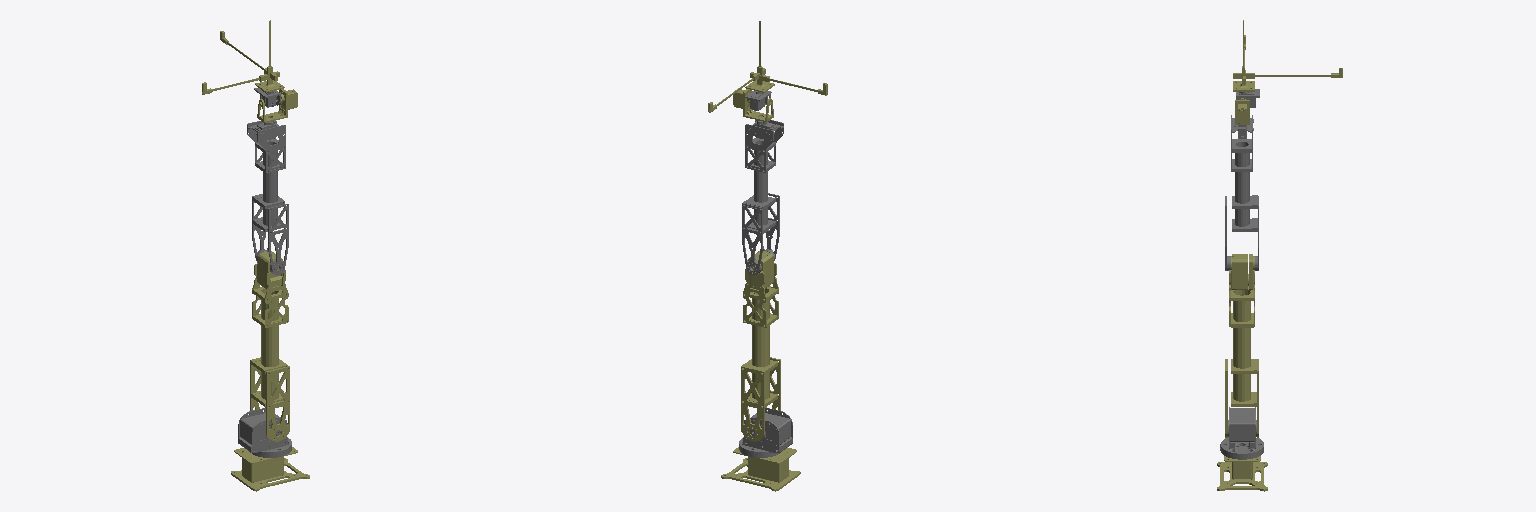
URDF robot description (robot_urdf):
<?xml version="1.0" encoding="utf-8"?>
<!-- This URDF was automatically created by SolidWorks to URDF Exporter! Originally created by [author] ([email redacted]) 
     Commit Version: 1.5.0-0-g9aa0fdb  Build Version: 1.5.7004.21443
     For more information, please see http://wiki.ros.org/sw_urdf_exporter -->
<robot name="robot_urdf">
  <link name="base_link">
    <visual>
      <origin xyz="0 0 0" rpy="0 0 0" />
      <geometry>
        <mesh filename="package://robot_urdf/meshes/base_link.STL" />
      </geometry>
      <material name="">
        <color rgba="0.6 0.6 0.4 1" />
      </material>
    </visual>
    <collision>
      <origin xyz="0 0 0" rpy="0 0 0" />
      <geometry>
        <mesh filename="package://robot_urdf/meshes/base_link.STL" />
      </geometry>
    </collision>
  </link>

  <joint name="revolute_joint_0" type="revolute"> 
    <parent link="base_link"/> 
    <child link="link1"/> 
    <axis xyz="0 0 -1"/>  
    <origin xyz="0 0 0.0411" rpy="0 0 0"/> 
    <limit effort ="1000.0" lower="-2.618" upper="2.618" velocity="0.5"/>  
  </joint>

  <link name="link1">
    <visual>
      <origin xyz="0 0 0" rpy="0 0 0" />
      <geometry>
        <mesh filename="package://robot_urdf/meshes/link1.STL" />
      </geometry>
      <material name="">
        <color rgba="0.5 0.5 0.5 1" />
      </material>
    </visual>
    <collision>
      <origin xyz="0 0 0" rpy="0 0 0" />
      <geometry>
        <mesh filename="package://robot_urdf/meshes/link1.STL" />
      </geometry>
    </collision>
  </link>

  <joint name="revolute_joint_1" type="revolute"> 
    <parent link="link1"/> 
    <child link="link2"/> 
    <axis xyz="0 0 1"/>  
    <origin xyz="0 0 0.0331" rpy="1.5708 -1.5708 3.1416"/> 
    <limit effort ="1000.0" lower="-1.5707963" upper="1.5707963" velocity="0.5"/>  
  </joint>

  <link name="link2">
    <visual>
      <origin xyz="0 0 0" rpy="0 0 0" />
      <geometry>
        <mesh filename="package://robot_urdf/meshes/link2.STL" />
      </geometry>
      <material name="">
        <color rgba="0.6 0.6 0.4 1" />
      </material>
    </visual>
    <collision>
      <origin xyz="0 0 0" rpy="0 0 0" />
      <geometry>
        <mesh filename="package://robot_urdf/meshes/link2.STL" />
      </geometry>
    </collision>
  </link>

  <joint name="revolute_joint_2" type="revolute"> 
    <parent link="link2"/> 
    <child link="link3"/> 
    <axis xyz="0 0 -1"/>  
    <origin xyz="0.25 0 0" rpy="0 0 -1.5708"/> 
    <limit effort ="1000.0" lower="-2.618" upper="2.618" velocity="0.5"/>  
  </joint>
  
  <link name="link3">
    <visual>
      <origin xyz="0 0 0" rpy="0 0 0" />
      <geometry>
        <mesh filename="package://robot_urdf/meshes/link3.STL" />
      </geometry>
      <material name="">
        <color rgba="0.5 0.5 0.5 1" />
      </material>
    </visual>
    <collision>
      <origin xyz="0 0 0" rpy="0 0 0" />
      <geometry>
        <mesh filename="package://robot_urdf/meshes/link3.STL" />
      </geometry>
    </collision>
  </link>
  
  <joint name="revolute_joint_3" type="revolute"> 
    <parent link="link3"/> 
    <child link="link4"/> 
    <axis xyz="0 0 1"/>  
    <origin xyz="0 0.2194 0" rpy="-1.5708 -1.5708 0"/> 
    <limit effort ="1000.0" lower="-2.618" upper="2.618" velocity="0.5"/>  
  </joint>

  <link name="link4">
    <visual>
      <origin xyz="0 0 0" rpy="0 0 0" />
      <geometry>
        <mesh filename="package://robot_urdf/meshes/link4.STL" />
      </geometry>
      <material name="">
        <color rgba="0.6 0.6 0.4 1" />
      </material>
    </visual>
    <collision>
      <origin xyz="0 0 0" rpy="0 0 0" />
      <geometry>
        <mesh filename="package://robot_urdf/meshes/link4.STL" />
      </geometry>
    </collision>
  </link>

  <joint name="revolute_joint_4" type="revolute"> 
    <parent link="link4"/> 
    <child link="link5"/> 
    <axis xyz="0 0 1"/>  
    <origin xyz="0 0 0.026516" rpy="-1.5708 -1.5708 0"/> 
    <limit effort ="1000.0" lower="-2.618" upper="2.618" velocity="0.5"/>  
  </joint>

  <link name="link5">
    <visual>
      <origin xyz="0 0 0" rpy="0 0 0" />
      <geometry>
        <mesh filename="package://robot_urdf/meshes/link5.STL" />
      </geometry>
      <material name="">
        <color rgba="0.5 0.5 0.5 1" />
      </material>
    </visual>
    <collision>
      <origin xyz="0 0 0" rpy="0 0 0" />
      <geometry>
        <mesh filename="package://robot_urdf/meshes/link5.STL" />
      </geometry>
    </collision>
  </link>

  <joint name="revolute_joint_5" type="revolute"> 
    <parent link="link5"/> 
    <child link="link6"/> 
    <axis xyz="0 0 1"/>  
    <origin xyz="0.02085 0.0017632 0" rpy="1.5708 0 1.5708"/> 
    <limit effort ="1000.0" lower="-2.618" upper="2.618" velocity="0.5"/>  
  </joint>

  <link name="link6">
    <visual>
      <origin xyz="0 0 0" rpy="0 0 0" />
      <geometry>
        <mesh filename="package://robot_urdf/meshes/end_link.STL" />
      </geometry>
      <material name="">
        <color rgba="0.6 0.6 0.4 1" />
      </material>
    </visual>
    <collision>
      <origin xyz="0 0 0" rpy="0 0 0" />
      <geometry>
        <mesh filename="package://robot_urdf/meshes/end_link.STL" />
      </geometry>
    </collision>
  </link>

  <joint name="fixed_joint_0" type="fixed"> 
  <parent link="link6"/> 
  <child link="end_link"/> 
  <origin xyz="0 0 0.07" rpy="0 0 0"/> 
  </joint>

  <link name="end_link">
  </link>

</robot>
  

--- Render facts (derived) ---
Views: 3 orthographic renders of the robot side by side, from view 1: azimuth 30°, elevation 25°; view 2: azimuth 150°, elevation 25°; view 3: azimuth 270°, elevation 25°.
Model robot_urdf with 8 links and 7 joints (6 revolute, 1 fixed), rooted at base_link, posed all joints at 0.
Visible links, largest first — view 1: link2, link3, base_link, link1, link6, link4; view 2: link2, link3, base_link, link1, link6, link4; view 3: link2, link3, link1, base_link, link6.
Boxes of the visible links, x1=… form: link2: x1=250, y1=251, x2=289, y2=441; link3: x1=247, y1=117, x2=288, y2=275; base_link: x1=231, y1=447, x2=309, y2=491; link1: x1=238, y1=408, x2=291, y2=457; link6: x1=202, y1=20, x2=284, y2=94; link4: x1=257, y1=89, x2=297, y2=122; link2: x1=741, y1=251, x2=780, y2=441; link3: x1=742, y1=116, x2=783, y2=274; base_link: x1=721, y1=447, x2=800, y2=491; link1: x1=739, y1=408, x2=792, y2=457; link6: x1=708, y1=21, x2=827, y2=112; link4: x1=733, y1=89, x2=773, y2=121; link2: x1=1225, y1=254, x2=1258, y2=437; link3: x1=1225, y1=115, x2=1258, y2=270; link1: x1=1220, y1=407, x2=1263, y2=459; base_link: x1=1217, y1=438, x2=1267, y2=491; link6: x1=1233, y1=20, x2=1342, y2=91.
Size in the robot's own frame: 0.1515 by 0.1733 by 0.691 metres.
7 mesh visuals loaded from 7 distinct referenced files (7 binary STL).